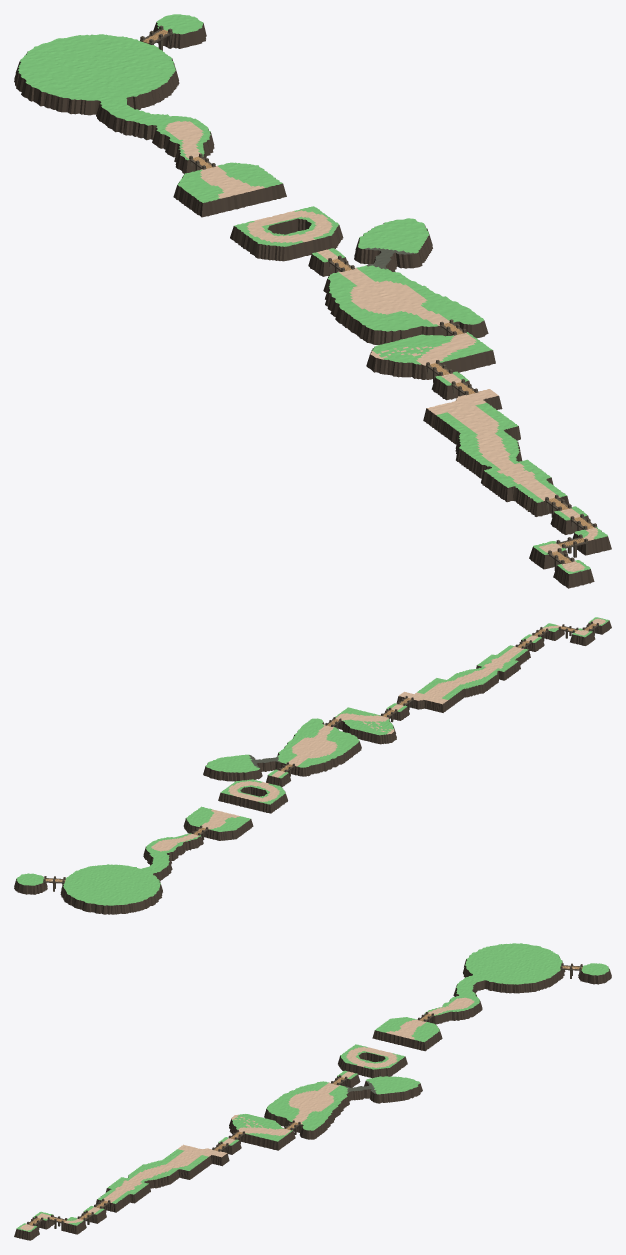
Rendered from NewFullMap.fbx.
3 views of the same model, one above another, from view 1: azimuth 30°, elevation 25°; view 2: azimuth 150°, elevation 25°; view 3: azimuth 330°, elevation 25° (orthographic). The views are drawn at different scales.
Parts seen in each view (by area): view 1: SectionFour, SectionTwo.001, SectionOne, SectionThree, SectionThreePointFive, IslandOne; view 2: SectionFour, SectionTwo.001, SectionOne, SectionThree, SectionThreePointFive; view 3: SectionTwo.001, SectionFour, SectionOne, SectionThreePointFive, SectionThree.
Part boxes in pixels (x1=…): SectionFour: x1=14, y1=14, x2=214, y2=173; SectionTwo.001: x1=323, y1=218, x2=495, y2=379; SectionOne: x1=423, y1=389, x2=569, y2=516; SectionThree: x1=230, y1=206, x2=343, y2=261; SectionThreePointFive: x1=173, y1=162, x2=286, y2=217; IslandOne: x1=553, y1=560, x2=594, y2=588; SectionFour: x1=14, y1=833, x2=203, y2=914; SectionTwo.001: x1=203, y1=707, x2=396, y2=781; SectionOne: x1=396, y1=645, x2=530, y2=712; SectionThree: x1=218, y1=779, x2=287, y2=813; SectionThreePointFive: x1=183, y1=806, x2=253, y2=840; SectionTwo.001: x1=229, y1=1076, x2=422, y2=1150; SectionFour: x1=424, y1=943, x2=611, y2=1024; SectionOne: x1=95, y1=1144, x2=229, y2=1212; SectionThreePointFive: x1=372, y1=1017, x2=442, y2=1051; SectionThree: x1=338, y1=1044, x2=407, y2=1078.
Bounding box in the file's own units: 23292 × 1430 × 92647.
